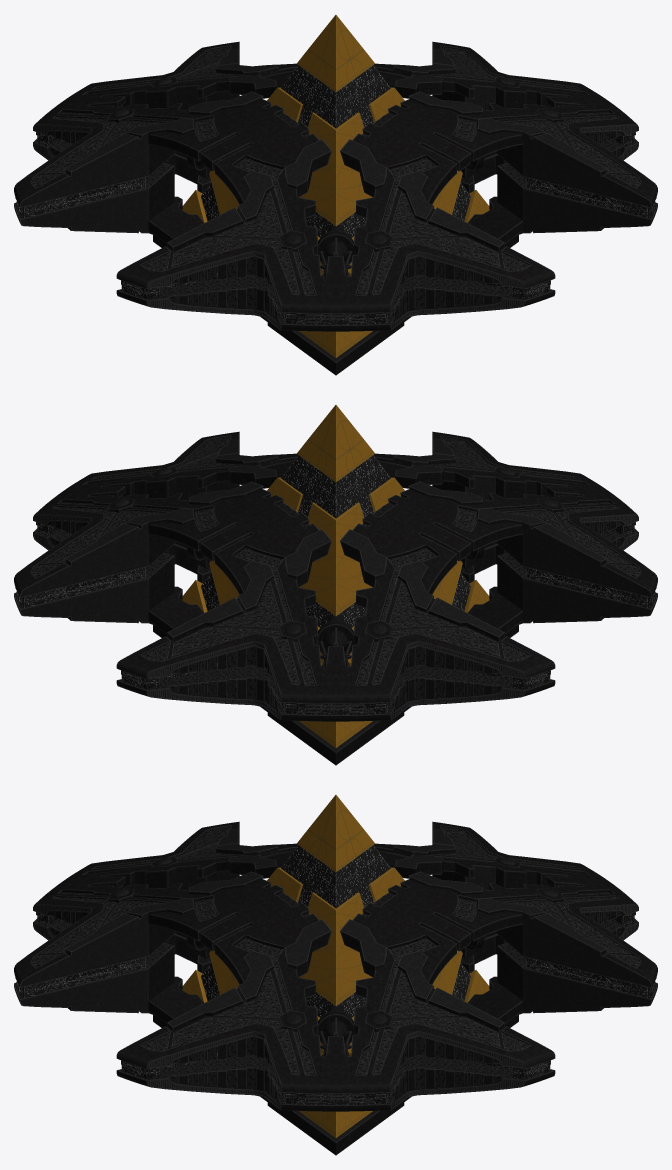
Rendered from hatak.glb.
3 views of the same model, one above another, from view 1: azimuth 30°, elevation 25°; view 2: azimuth 150°, elevation 25°; view 3: azimuth 270°, elevation 25° (orthographic).
Parts seen in each view (by area): view 1: Big, Pyramid_low, MiddlePart_low, panel_low, LowerPyramid_low, weapon_low, Struts_low; view 2: Big, Pyramid_low, MiddlePart_low, panel_low, LowerPyramid_low, weapon_low, Struts_low; view 3: Big, Pyramid_low, MiddlePart_low, panel_low, LowerPyramid_low, weapon_low, Struts_low.
Part boxes in pixels (left/top/right/bottom): Big: left=14, top=41, right=657, bottom=331; Pyramid_low: left=182, top=15, right=489, bottom=357; MiddlePart_low: left=15, top=132, right=656, bottom=324; panel_low: left=55, top=131, right=616, bottom=319; LowerPyramid_low: left=153, top=235, right=518, bottom=375; weapon_low: left=107, top=77, right=564, bottom=251; Struts_low: left=173, top=151, right=498, bottom=276; Big: left=14, top=431, right=657, bottom=721; Pyramid_low: left=182, top=405, right=489, bottom=747; MiddlePart_low: left=15, top=522, right=656, bottom=714; panel_low: left=55, top=521, right=616, bottom=709; LowerPyramid_low: left=153, top=625, right=518, bottom=765; weapon_low: left=107, top=467, right=564, bottom=641; Struts_low: left=173, top=541, right=498, bottom=666; Big: left=14, top=821, right=657, bottom=1111; Pyramid_low: left=182, top=795, right=489, bottom=1137; MiddlePart_low: left=15, top=912, right=656, bottom=1104; panel_low: left=55, top=911, right=616, bottom=1099; LowerPyramid_low: left=153, top=1015, right=518, bottom=1155; weapon_low: left=107, top=857, right=564, bottom=1031; Struts_low: left=173, top=931, right=498, bottom=1056.
Bounding box in the file's own units: 1 × 0.4784 × 1.02.
3 materials, 3 textured.
